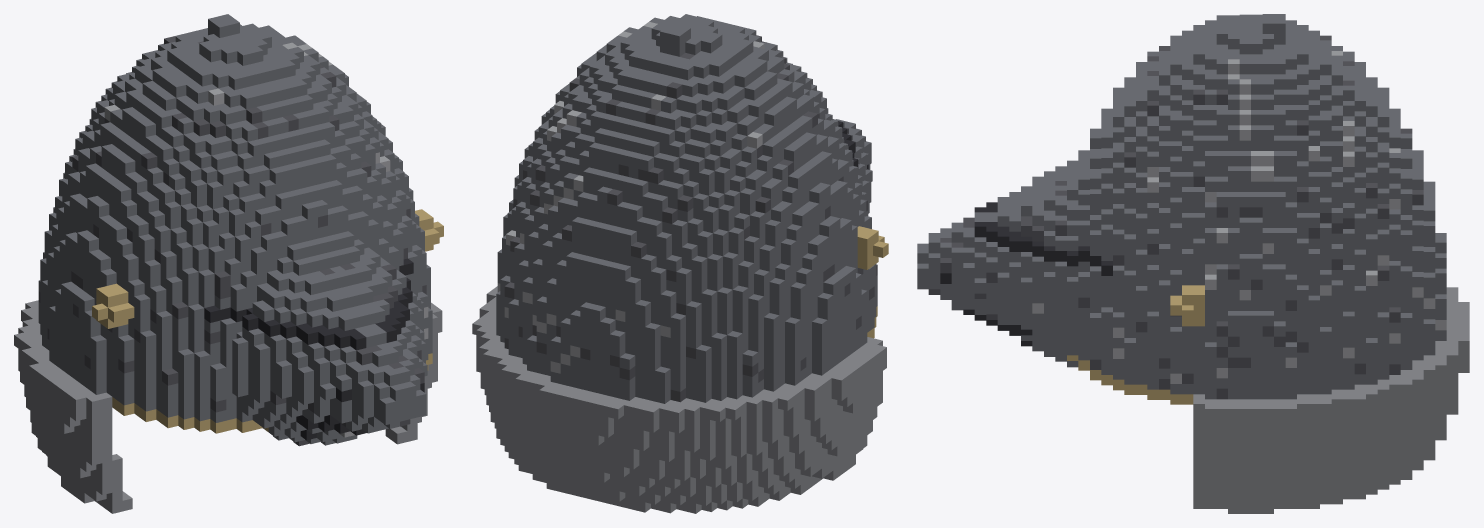
Rendered from plate_rare_helmet.glb.
The picture shows the model from 3 angles, left to right: view 1: azimuth 30°, elevation 25°; view 2: azimuth 150°, elevation 25°; view 3: azimuth 270°, elevation 25°; orthographic projection. The views are drawn at different scales.
Visible parts, largest first — view 1: plate_rare_helmet; view 2: plate_rare_helmet; view 3: plate_rare_helmet.
Boxes of the visible parts, box(x1,y1,x2,y2) form: plate_rare_helmet: box(14, 14, 443, 513); plate_rare_helmet: box(472, 14, 888, 513); plate_rare_helmet: box(917, 14, 1469, 513).
Size of the model in its own units: 0.432 by 0.48 by 0.576.
